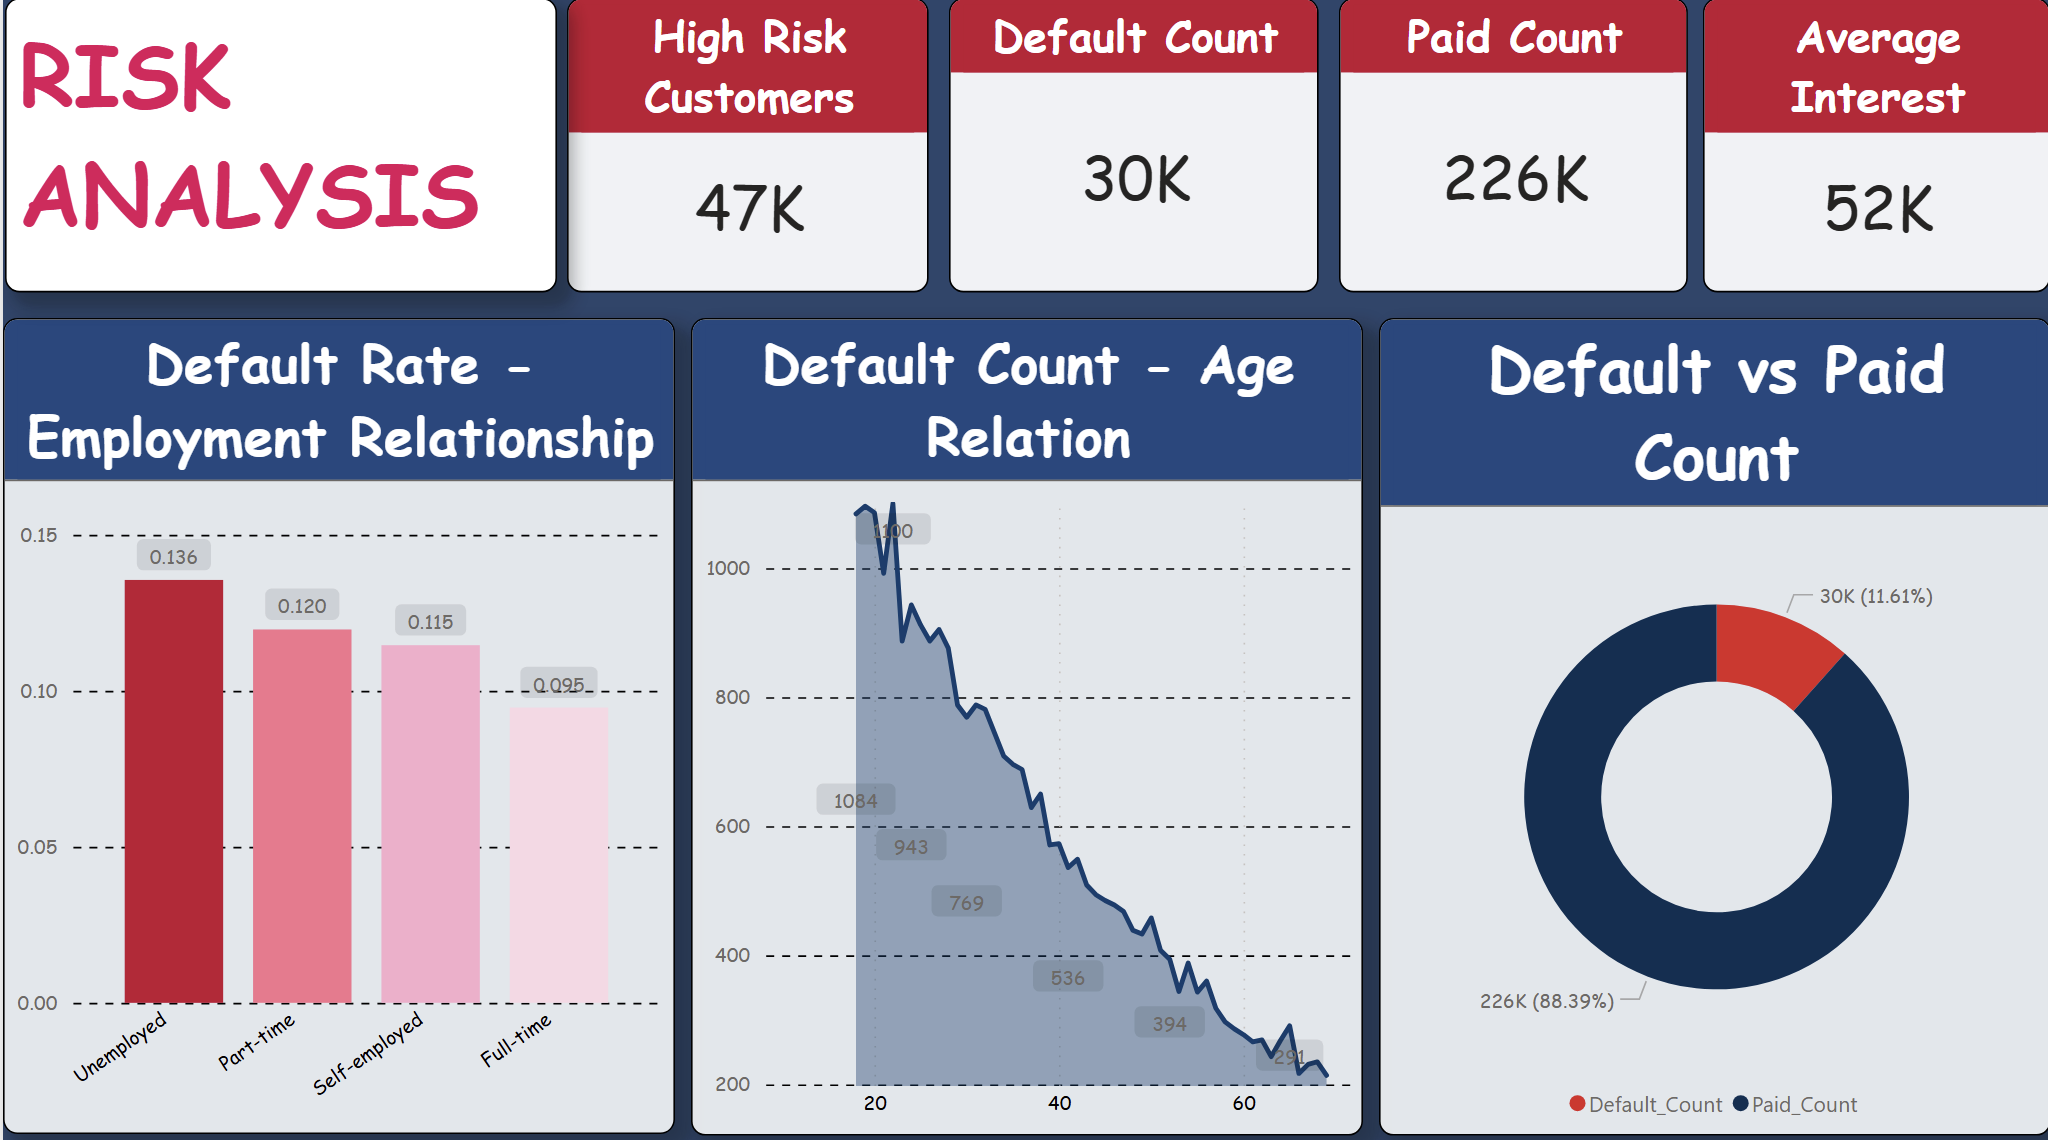

Layout of this report page (visuals, bound fields, positions):
{"tool":"powerbi","page":{"name":"Risk_Analysis","canvas":[1280,720],"ordinal":1},"visuals":[{"type":"card","title":"Default Count","fields":{"Values":["Sum(Fact_Loan.Default)"]},"box":[591,0,231,184],"z":0},{"type":"card","title":"Paid Count","fields":{"Values":["KPI_Measures.Paid_Count"]},"box":[835,0,218,184],"z":1000},{"type":"card","title":"High Risk Customers","fields":{"Values":["Dim_Customer.High_Risk_Loan_Accounts"]},"box":[353,0,226,184],"z":2000},{"type":"columnChart","title":"Default Rate - Employment Relationship","fields":{"Category":["Dim_Customer.EmploymentType"],"Y":["KPI_Measures.Default_Rate"]},"box":[0,200,420,510],"z":3000},{"type":"stackedAreaChart","title":"Default Count - Age Relation","fields":{"Y":["KPI_Measures.Default_Count"],"Category":["Dim_Customer.Age"]},"box":[430,200,420,511],"z":4000},{"type":"donutChart","title":"Default vs Paid Count","fields":{"Y":["KPI_Measures.Default_Count","KPI_Measures.Paid_Count"]},"box":[860,200,420,511],"z":5000},{"type":"card","title":"Average Interest ","fields":{"Values":["KPI_Measures.Average_Interest_Per_Loan"]},"box":[1063,0,217,184],"z":8000},{"type":"textbox","box":[1,0,345,184],"z":9000},{"type":"image","box":[171,7,79,85],"z":10000},{"type":"image","box":[346,0,199,184],"z":11000}]}

Visuals, with their boxes in screenshot pixels (x1, y1, x2, y2), scaled from the page's 1280x720 canvas onto the 2048x1140 screenshot:
"Default Count" card: 946/0/1315/291
"Paid Count" card: 1336/0/1685/291
"High Risk Customers" card: 565/0/926/291
"Default Rate - Employment Relationship" columnChart: 0/317/672/1124
"Default Count - Age Relation" stackedAreaChart: 688/317/1360/1126
"Default vs Paid Count" donutChart: 1376/317/2047/1126
"Average Interest " card: 1701/0/2047/291
textbox: 2/0/554/291
image: 274/11/400/146
image: 554/0/872/291
